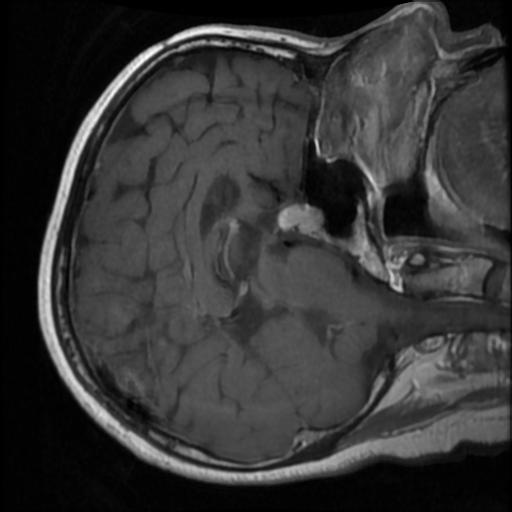pituitary tumour: (278, 204, 324, 234)
